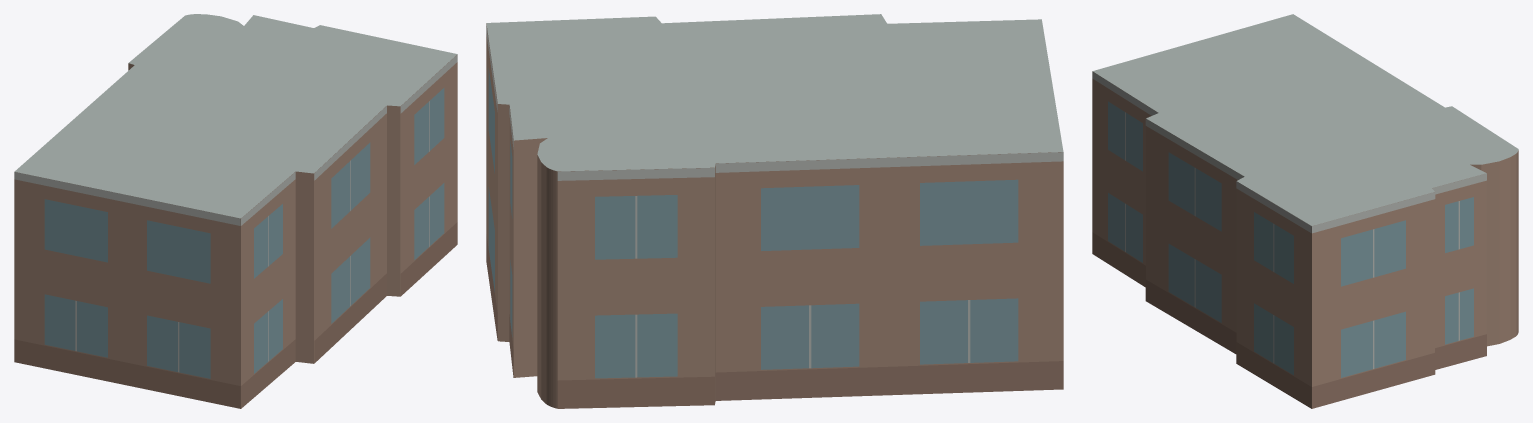
The model's file is survey-upis-32655700.glb.
3 views of the same model, side by side, from view 1: azimuth 30°, elevation 25°; view 2: azimuth 150°, elevation 25°; view 3: azimuth 270°, elevation 25° (orthographic). The views are drawn at different scales.
Visible parts, largest first — view 1: survey-upis-32655700.tmp; view 2: survey-upis-32655700.tmp; view 3: survey-upis-32655700.tmp.
Part boxes in pixels (x1=…): survey-upis-32655700.tmp: x1=14, y1=14, x2=457, y2=408; survey-upis-32655700.tmp: x1=486, y1=14, x2=1063, y2=408; survey-upis-32655700.tmp: x1=1092, y1=14, x2=1518, y2=408.
Bounding box in the file's own units: 15.2 × 6.1 × 12.9.
